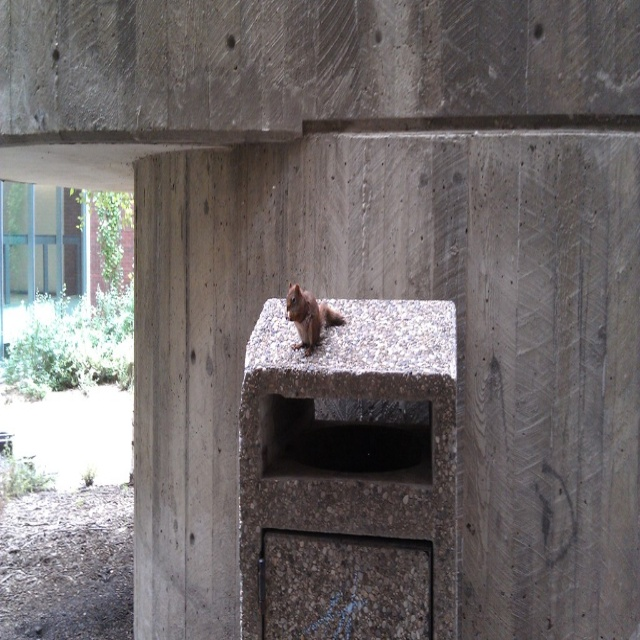Squirrel: (285, 281, 346, 357)
